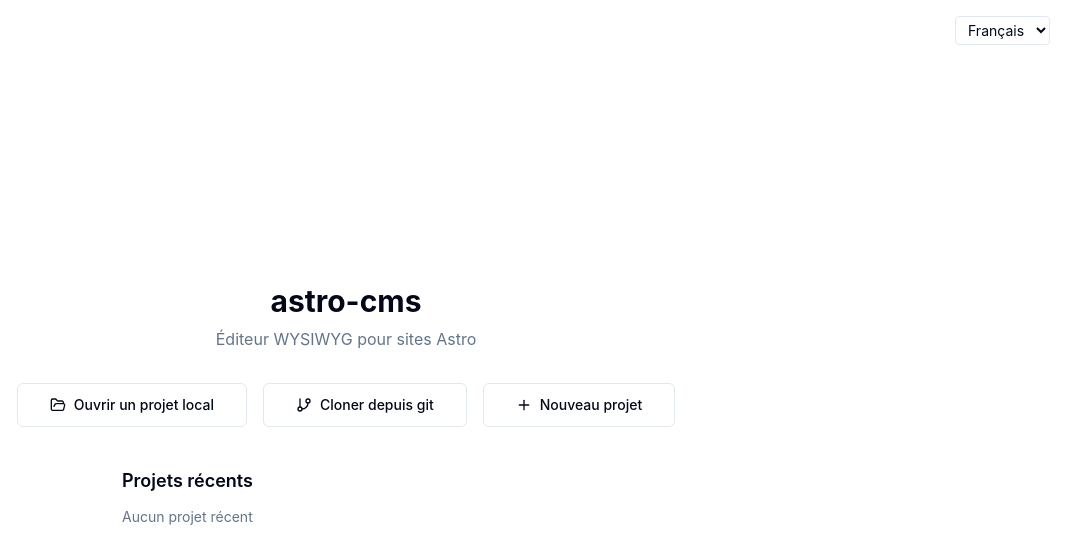
Test: App wizard flow › cancelling the wizard returns to welcome screen
What coordinates should you click on to do the following:
click the button "Nouveau projet"
I would click on:
 (579, 405)
Its box is [483,383,675,427].
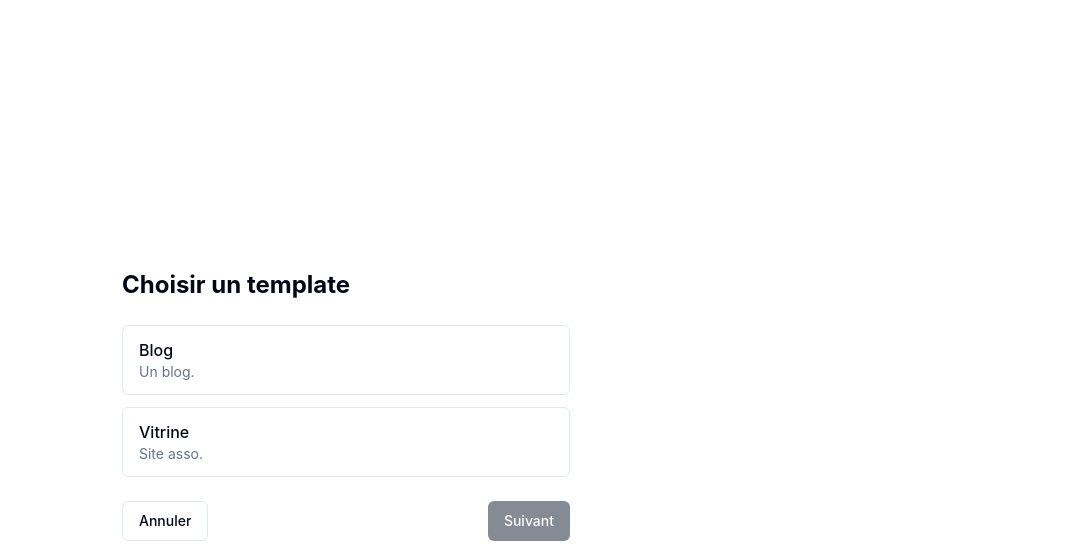
Check: the heading "Choisir un template" is shown, box [122,270,350,299]
What coordinates should you click on to do the following:
click the button "Annuler"
I would click on:
 (165, 521)
Its box is [122,501,208,541].
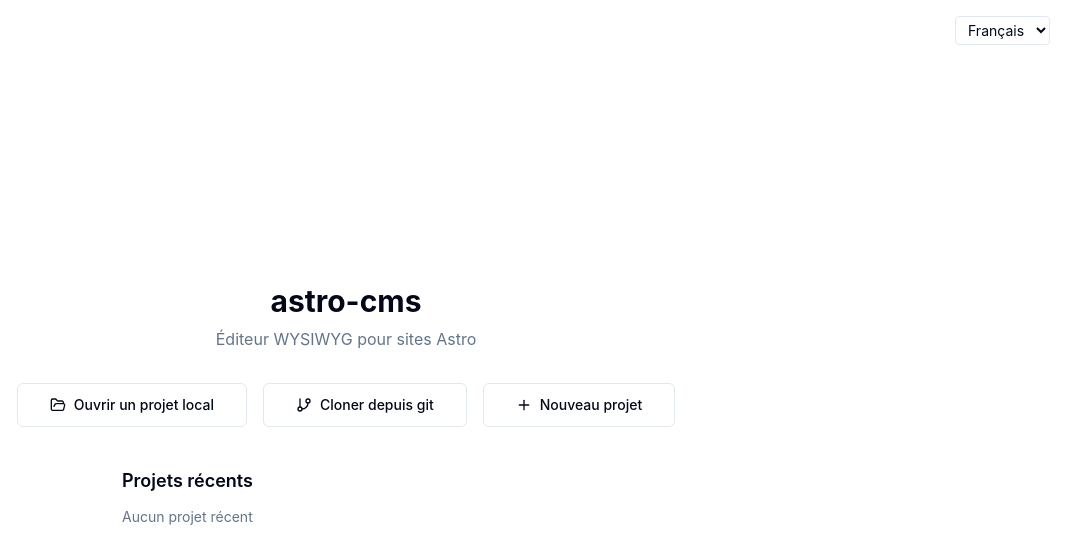
Check: the button "Ouvrir un projet local" is shown, box [17,383,247,427]
